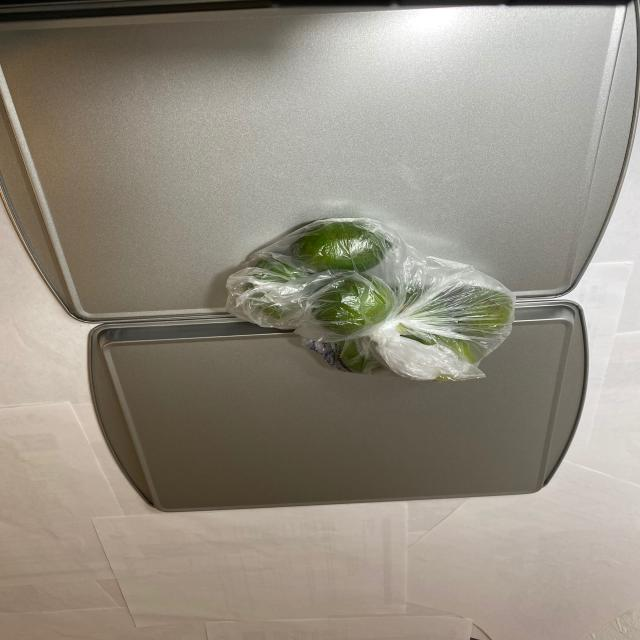lemon: (220, 226, 514, 376)
